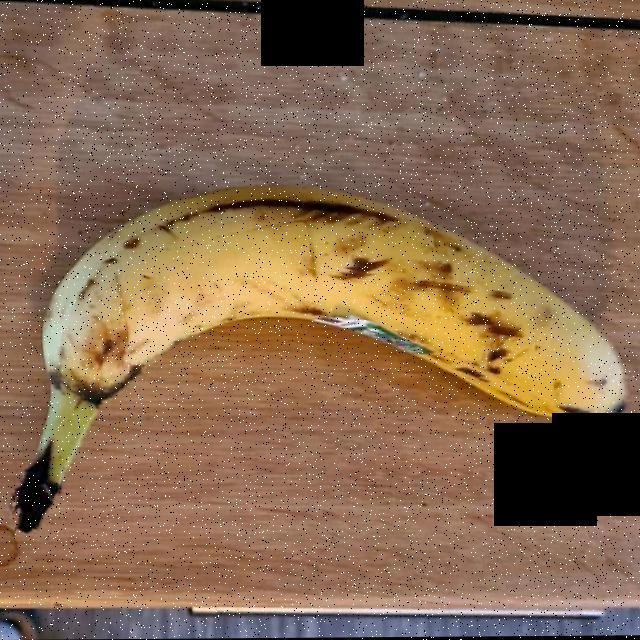banana: (58, 195, 618, 420)
